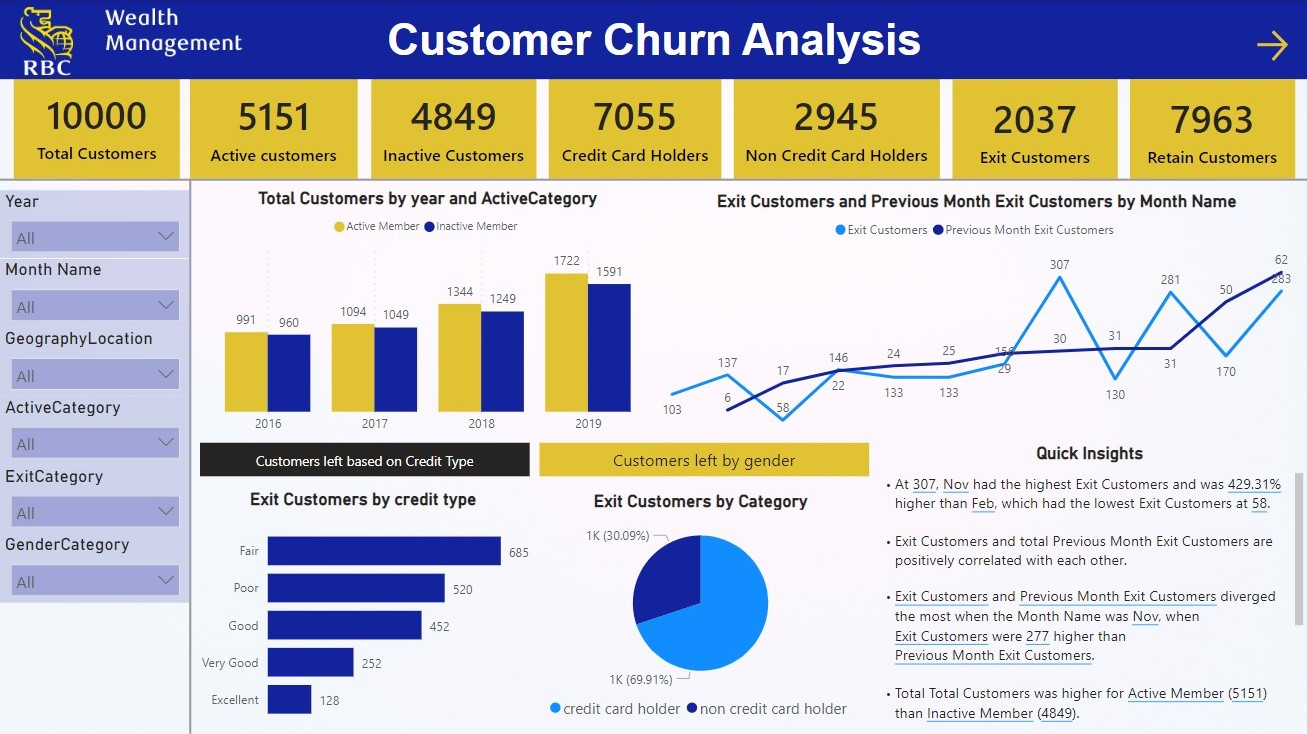

Layout of this report page (visuals, bound fields, positions):
{"tool":"powerbi","page":{"name":"HomePage","canvas":[1280,720],"ordinal":0},"visuals":[{"type":"card","fields":{"Values":["Calculations.Total Customers"]},"box":[13.8,71.2,162.5,105],"z":0},{"type":"card","fields":{"Values":["Calculations.Active customers"]},"box":[186.2,73.8,163.8,102.5],"z":1000},{"type":"card","fields":{"Values":["Calculations.Inactive Customers"]},"box":[362.5,73.8,161.2,102.5],"z":2000},{"type":"card","fields":{"Values":["Calculations.Credit Card Holders"]},"box":[536.2,73.8,168.8,102.5],"z":3000},{"type":"card","fields":{"Values":["Calculations.Non Credit Card Holders"]},"box":[717.5,73.8,201.2,102.5],"z":4000},{"type":"textbox","box":[0,0,1280,78.8],"z":5000},{"type":"card","fields":{"Values":["Calculations.Exit Customers"]},"box":[931.2,78.8,161.2,97.5],"z":6000},{"type":"card","fields":{"Values":["Calculations.Retain Customers"]},"box":[1105,78.8,161.2,97.5],"z":7000},{"type":"shape","box":[0,168.7,1279.9,15.9],"z":8000},{"type":"shape","box":[177.5,176.2,17.5,542.5],"z":9000},{"type":"slicer","title":"Year","fields":{"Values":["DateMaster.year"]},"box":[0,187.5,186.2,66.2],"z":10000},{"type":"slicer","title":"Month Name","fields":{"Values":["DateMaster.Month Name"]},"box":[0,253.8,186.2,67.5],"z":11000},{"type":"slicer","title":"GeographyLocation","fields":{"Values":["Geography.GeographyLocation"]},"box":[0,321.2,186.2,67.5],"z":12000},{"type":"slicer","title":"ActiveCategory","fields":{"Values":["ActiveCustomer.ActiveCategory"]},"box":[0,388.8,186.2,67.5],"z":13000},{"type":"slicer","title":"ExitCategory","fields":{"Values":["ExitCustomer.ExitCategory"]},"box":[0,456.2,186.2,67.5],"z":14000},{"type":"slicer","title":"GenderCategory","fields":{"Values":["Gender.GenderCategory"]},"box":[0,523.8,186.2,67.5],"z":15000},{"type":"clusteredColumnChart","fields":{"Category":["DateMaster.year","DateMaster.Month Name"],"Y":["Calculations.Total Customers"],"Series":["ActiveCustomer.ActiveCategory"]},"box":[215,185,406.2,248.8],"z":16000},{"type":"lineChart","fields":{"Category":["DateMaster.Month Name"],"Y":["Calculations.Exit Customers"],"Y2":["Calculations.Previous Month Exit Customers"]},"box":[631.2,187.5,648.8,235],"z":17000},{"type":"clusteredBarChart","fields":{"Category":["Bank_Churn.credit type"],"Y":["Calculations.Exit Customers"]},"box":[187.5,478.8,336.2,240],"z":19000},{"type":"pieChart","fields":{"Category":["CreditCard.Category"],"Y":["Calculations.Exit Customers"]},"box":[518.8,480,333.8,232.5],"z":20000},{"type":"textbox","title":"Quick Insights","box":[852.5,433.8,427.5,286.2],"z":21000},{"type":"bookmarkNavigator","box":[195,433.8,655,33.8],"z":22000},{"type":"actionButton","box":[1223.3,25.6,42.2,40],"z":23000},{"type":"image","box":[0,0,260,83.8],"z":24000}]}

Visuals, with their boxes in screenshot pixels (x1, y1, x2, y2), scaled from the page's 1280x720 canvas onto the 1307x734 screenshot:
card - Calculations.Total Customers: (x1=14, y1=73, x2=180, y2=180)
card - Calculations.Active customers: (x1=190, y1=75, x2=357, y2=180)
card - Calculations.Inactive Customers: (x1=370, y1=75, x2=535, y2=180)
card - Calculations.Credit Card Holders: (x1=548, y1=75, x2=720, y2=180)
card - Calculations.Non Credit Card Holders: (x1=733, y1=75, x2=938, y2=180)
textbox: (x1=0, y1=0, x2=1306, y2=80)
card - Calculations.Exit Customers: (x1=951, y1=80, x2=1115, y2=180)
card - Calculations.Retain Customers: (x1=1128, y1=80, x2=1293, y2=180)
shape: (x1=0, y1=172, x2=1306, y2=188)
shape: (x1=181, y1=180, x2=199, y2=733)
"Year" slicer: (x1=0, y1=191, x2=190, y2=259)
"Month Name" slicer: (x1=0, y1=259, x2=190, y2=328)
"GeographyLocation" slicer: (x1=0, y1=327, x2=190, y2=396)
"ActiveCategory" slicer: (x1=0, y1=396, x2=190, y2=465)
"ExitCategory" slicer: (x1=0, y1=465, x2=190, y2=534)
"GenderCategory" slicer: (x1=0, y1=534, x2=190, y2=603)
clusteredColumnChart - DateMaster.year x DateMaster.Month Name: (x1=220, y1=189, x2=634, y2=442)
lineChart - DateMaster.Month Name x Calculations.Exit Customers: (x1=645, y1=191, x2=1306, y2=431)
clusteredBarChart - Bank_Churn.credit type x Calculations.Exit Customers: (x1=191, y1=488, x2=535, y2=733)
pieChart - CreditCard.Category x Calculations.Exit Customers: (x1=530, y1=489, x2=871, y2=726)
"Quick Insights" textbox: (x1=870, y1=442, x2=1306, y2=733)
bookmarkNavigator: (x1=199, y1=442, x2=868, y2=477)
actionButton: (x1=1249, y1=26, x2=1292, y2=67)
image: (x1=0, y1=0, x2=265, y2=85)
